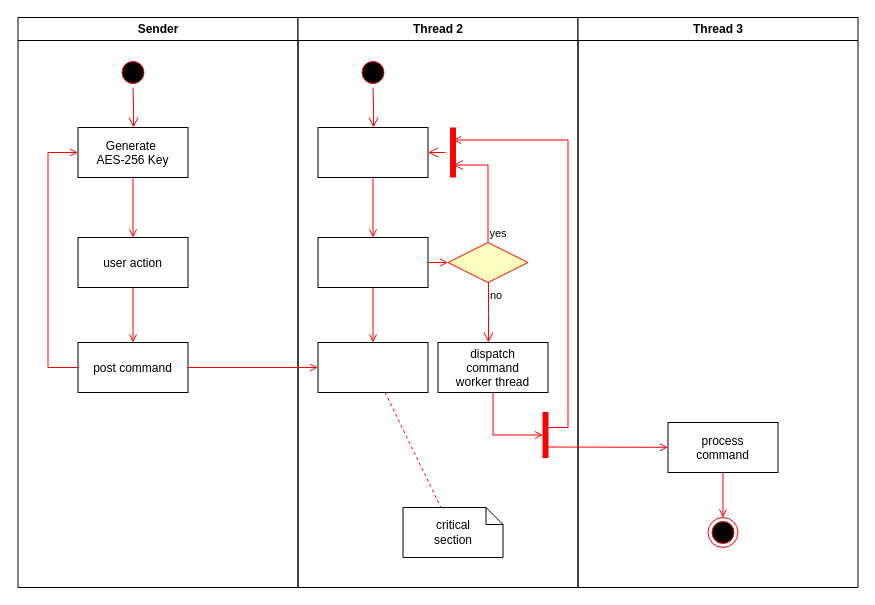
Some shapes in this 875 by 605 pixel diagram are drawn without their labels. Each missing label, with the centre of its shape:
check for new commands: pixel 372 262
command queue: pixel 372 367
idle: pixel 372 152
queue empty: pixel 487 262
